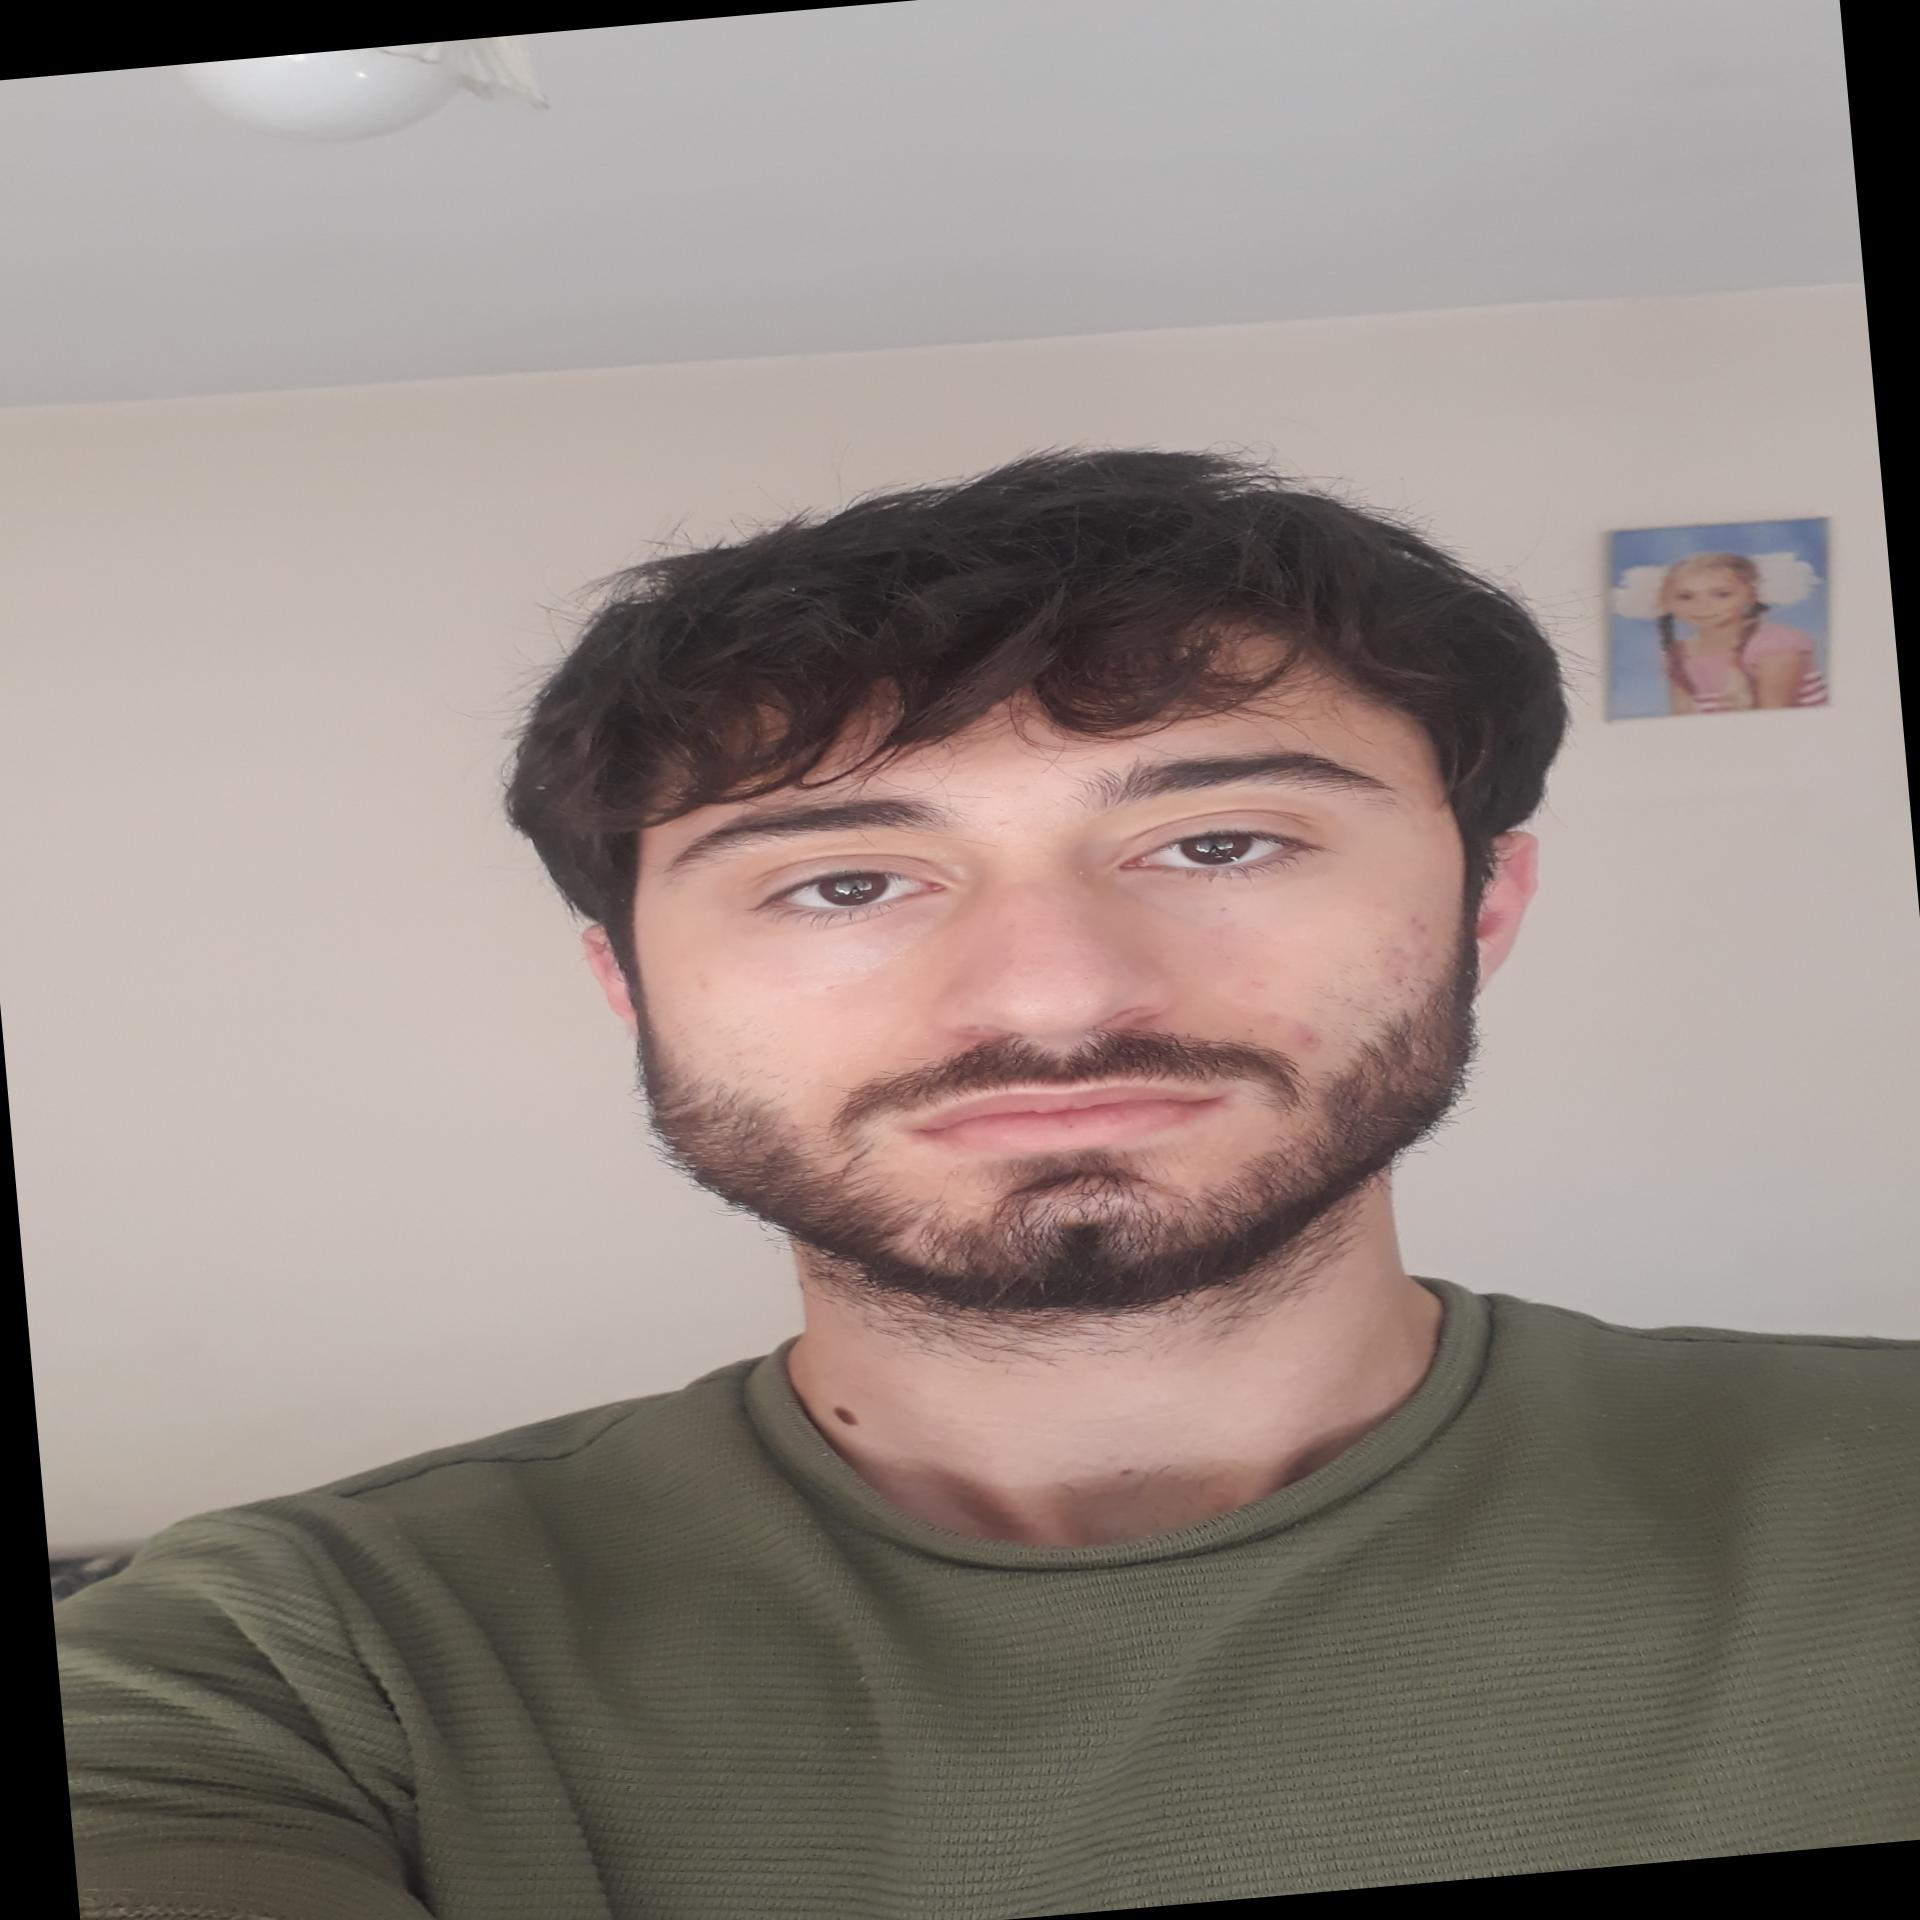Acne: (1289, 1015, 1333, 1055), (1375, 941, 1433, 967), (1403, 911, 1435, 937), (1254, 1009, 1289, 1030), (687, 972, 714, 995), (1236, 976, 1264, 992), (944, 1162, 965, 1183), (1385, 972, 1408, 992)
